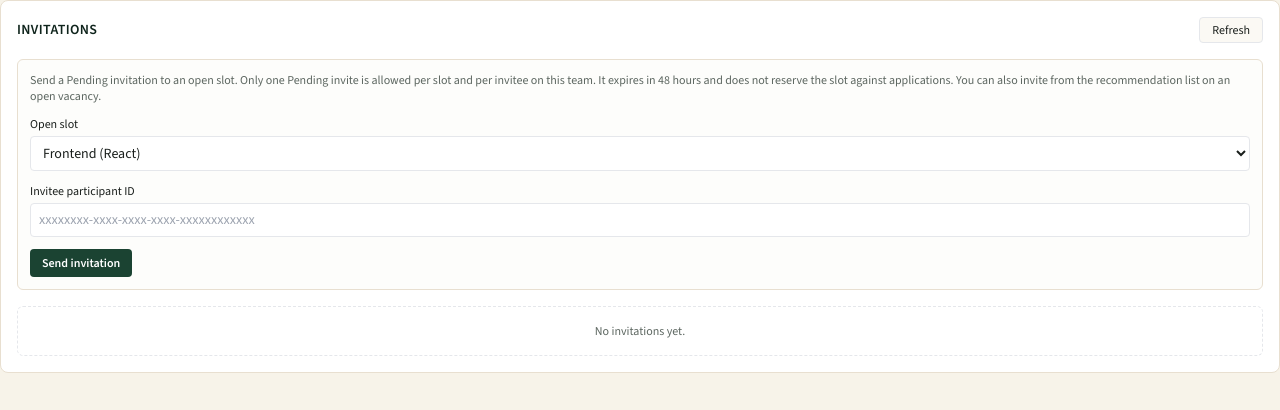
Test: OwnerInvitationsPanel (US-017 / #167 invite form + invitation view) › keeps form values and shows error on invalid invitee UUID
Check: the form with test id "owner-invite-form" is shown, box x1=17 y1=59 x2=1263 y2=290
In the field with test id "invite-participant-input": x=640, y=220 x1=30 y1=203 x2=1250 y2=237, type "not-a-uuid"
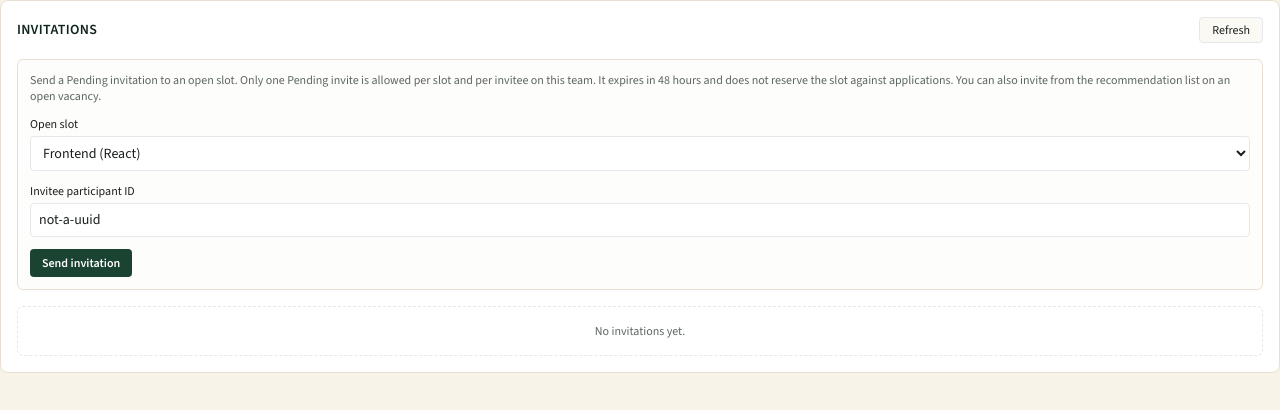
Click the button with test id "send-invitation": x=81, y=263 x1=30 y1=249 x2=132 y2=277
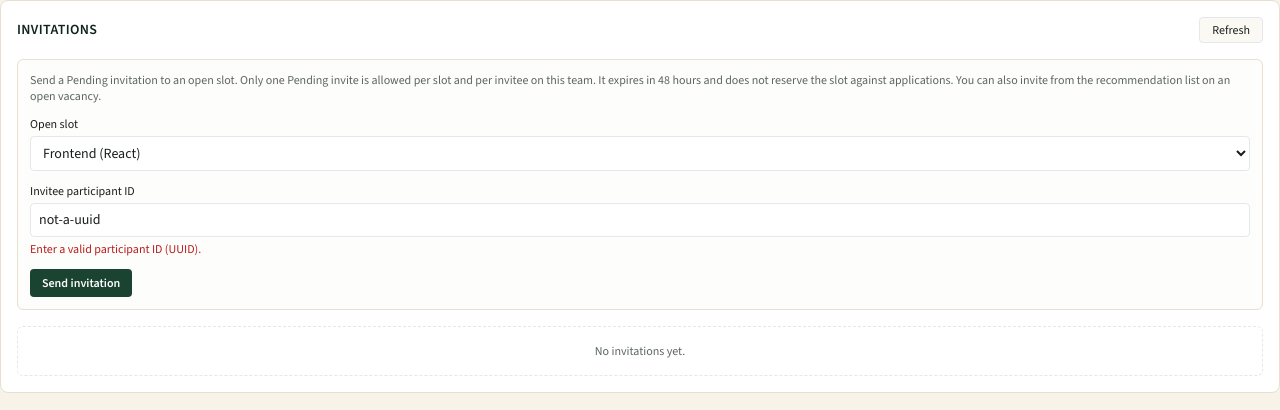
Check: the text "Enter a valid participant ID (UUID)." is shown, box x1=30 y1=241 x2=201 y2=257
